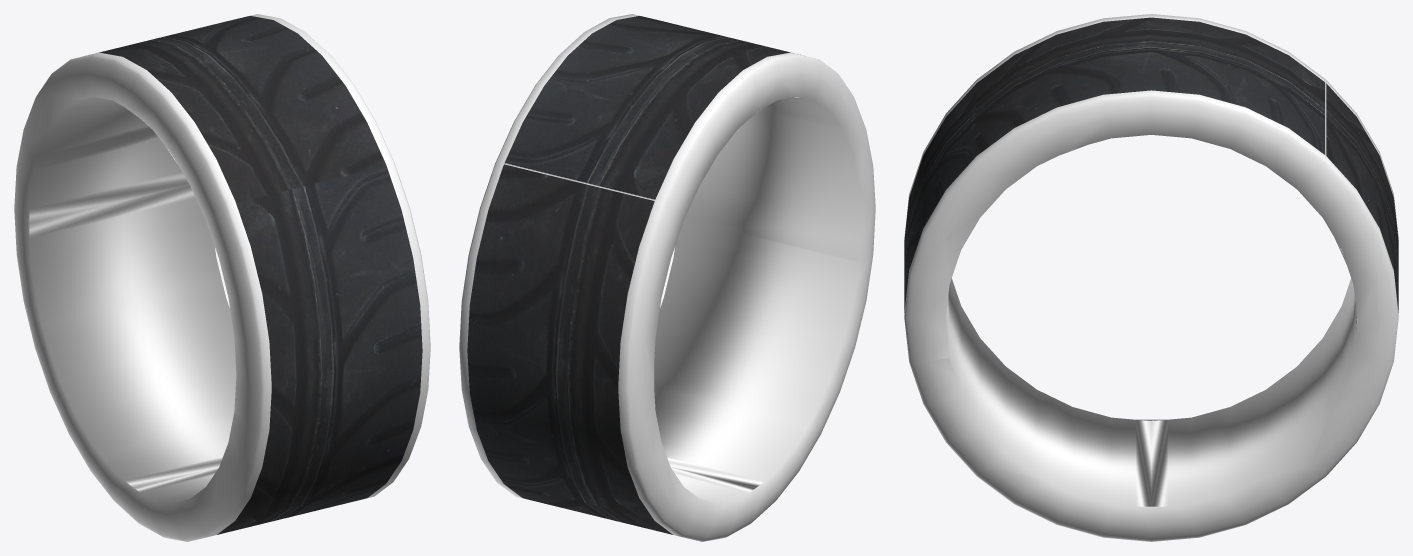
File: wheel_tread_1.dae
3 views of the same model, side by side, from view 1: azimuth 30°, elevation 25°; view 2: azimuth 150°, elevation 25°; view 3: azimuth 270°, elevation 25° (orthographic).
Parts seen in each view (by area): view 1: Cylinder; view 2: Cylinder; view 3: Cylinder.
Part boxes in pixels (x1,y1,x2,y2): Cylinder: [14, 14, 430, 541]; Cylinder: [459, 14, 875, 541]; Cylinder: [904, 14, 1398, 541].
Size of the model in its own units: 0.025 by 0.06 by 0.06.
Materials: 1 (1 with a texture image).
